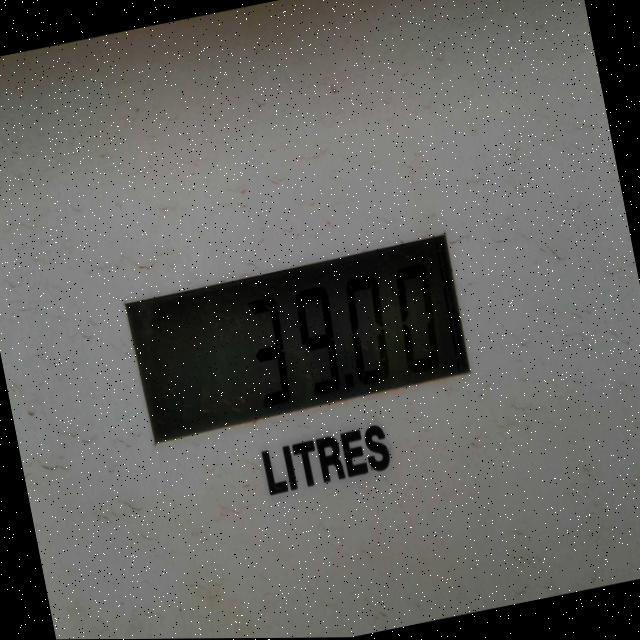.: (337, 365, 358, 397)
0: (385, 250, 451, 388), (332, 262, 401, 385)
3: (232, 291, 301, 423)
9: (276, 263, 350, 409)
